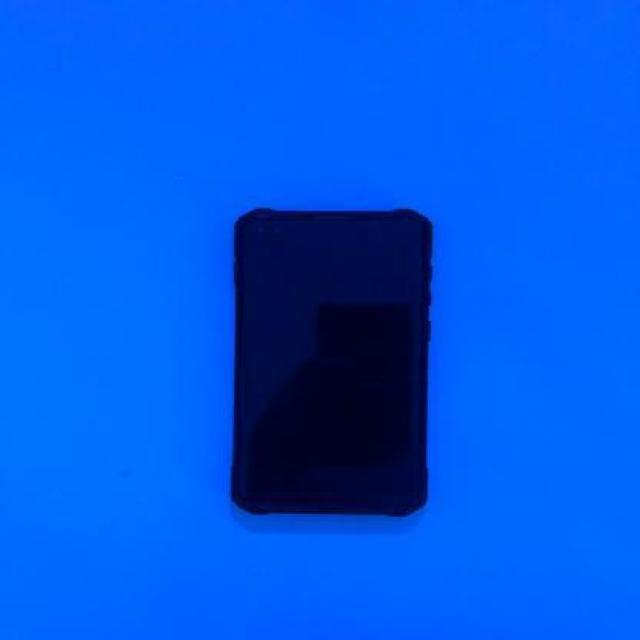mobile: (225, 204, 428, 516)
